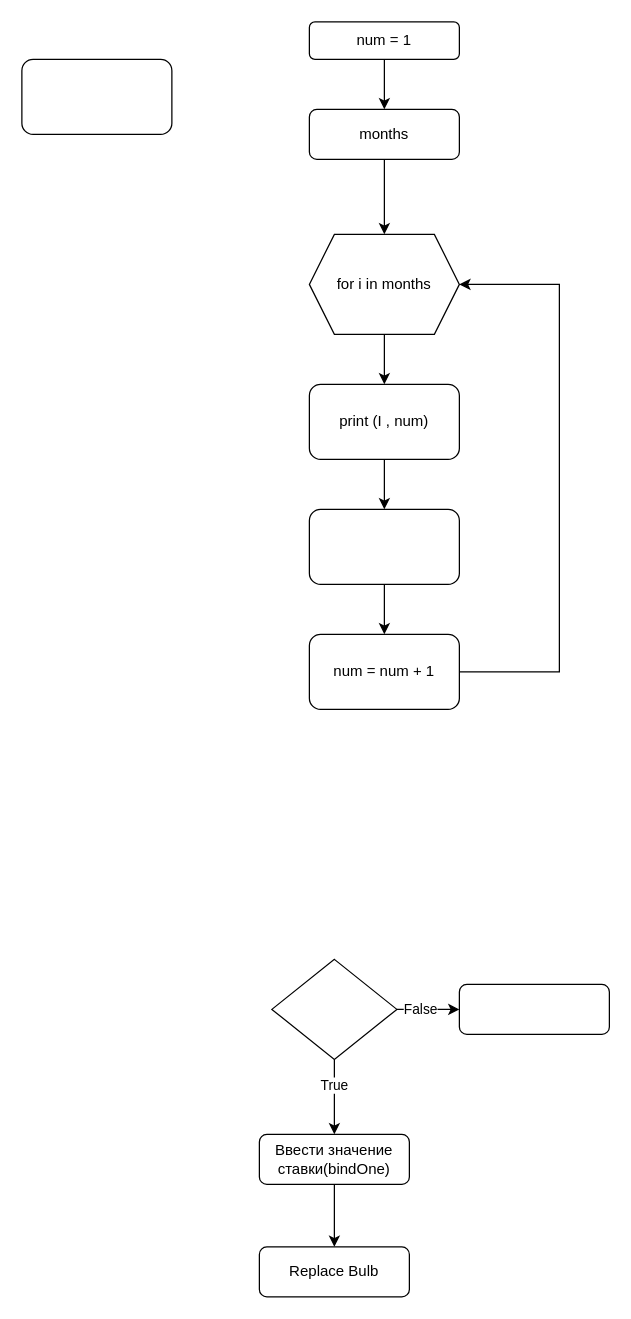
Image size: 631x1319. Some labels were removed from this diagram. The shapes that lost their labels are listed below. From the top down, each one's centre as x and y in pixels, then its label:
point (96, 96): print (num)
point (383, 546): i = i + 1
point (533, 1008): Пополните баллы
